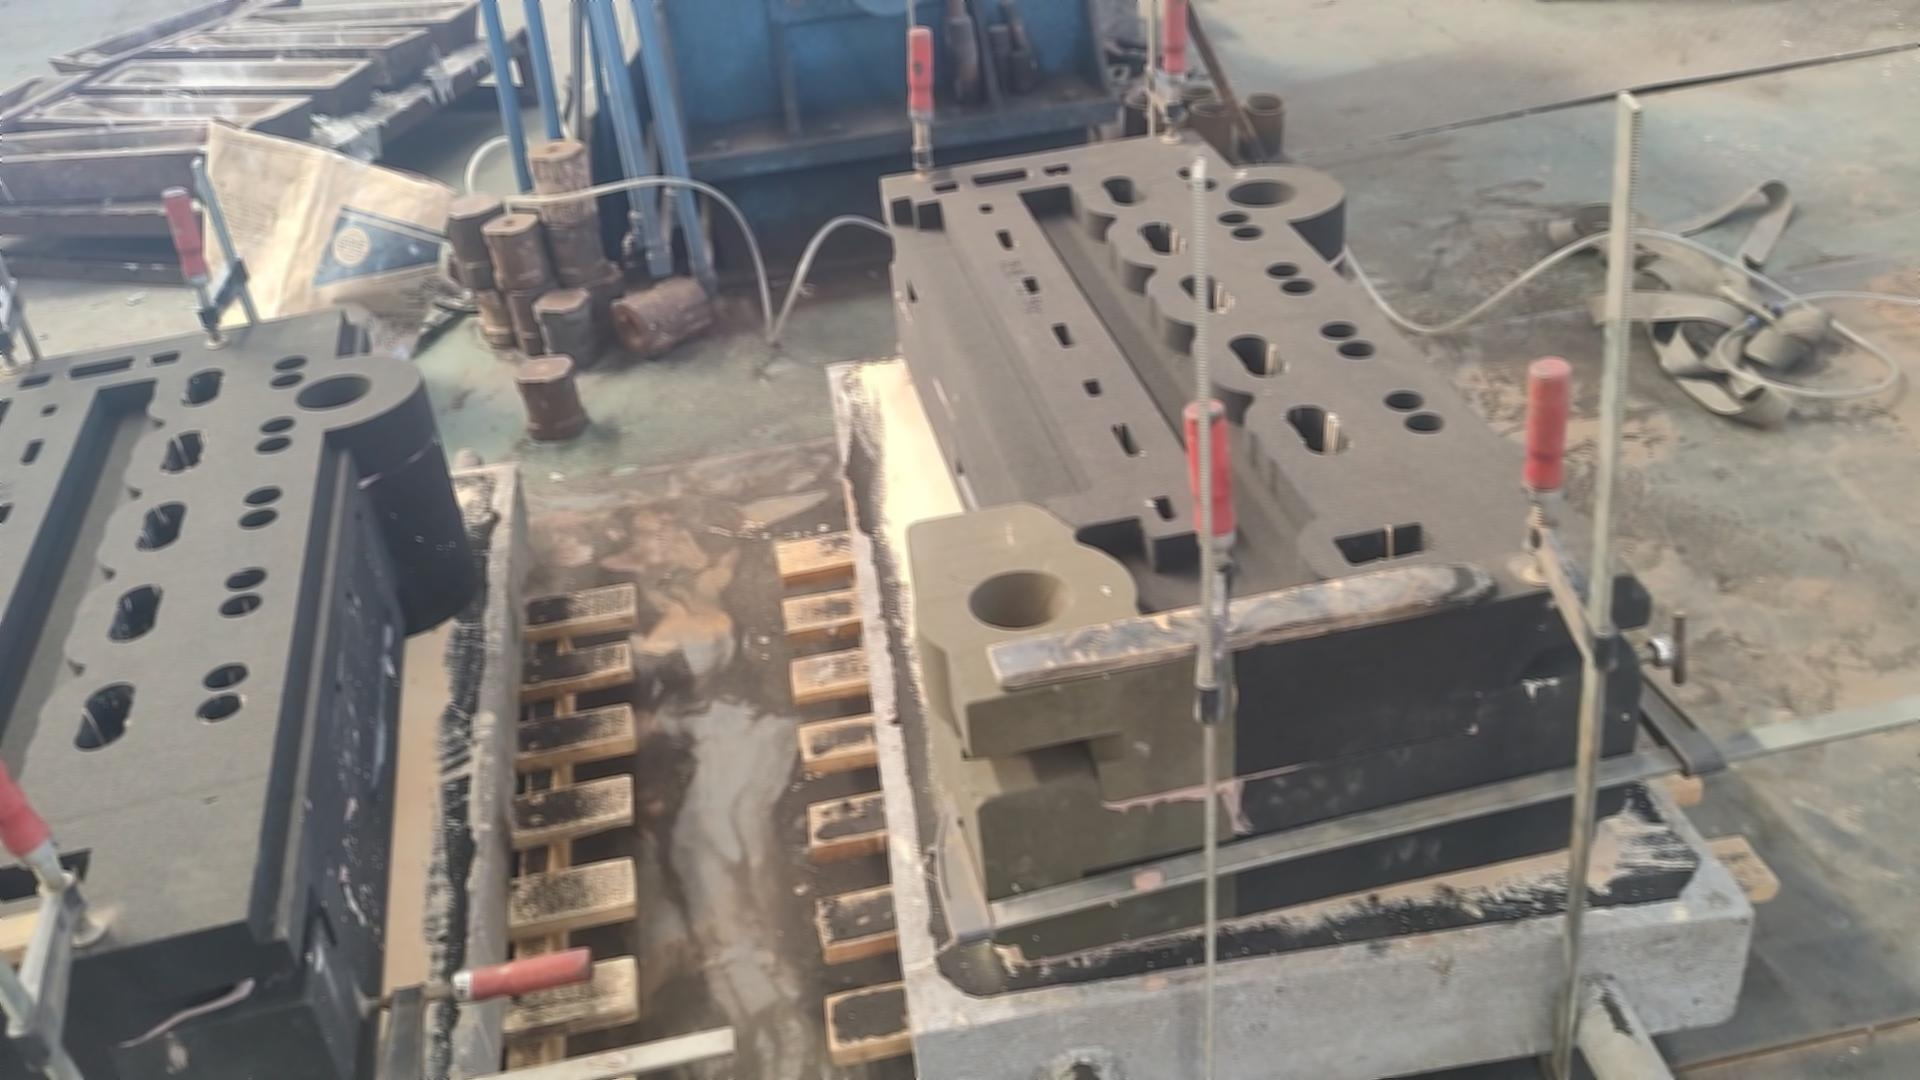pouring hole: (967, 568, 1071, 629), (291, 372, 371, 410), (1226, 179, 1299, 207), (1244, 92, 1286, 112), (1149, 107, 1188, 124), (1191, 102, 1232, 116), (1125, 91, 1156, 108), (1176, 84, 1216, 98), (1150, 95, 1182, 107)
